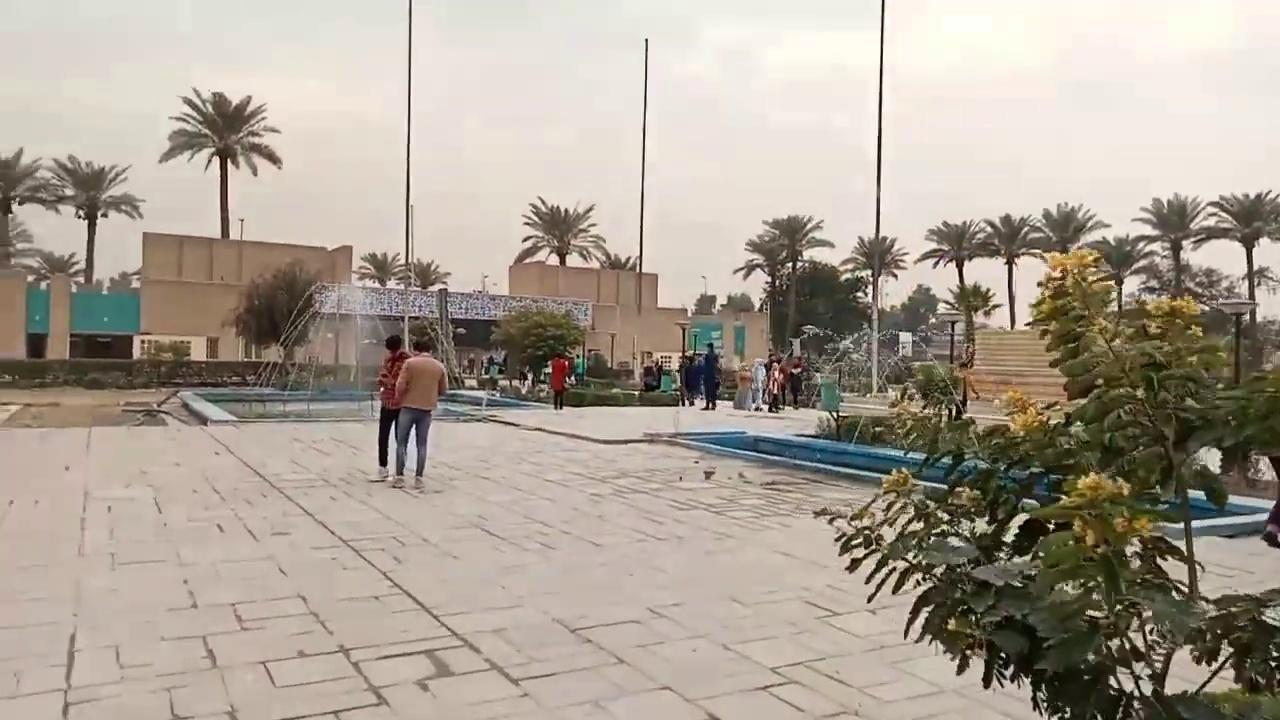fountain: (641, 418, 1274, 539), (642, 321, 1065, 501), (174, 279, 555, 425), (642, 419, 1064, 507)
person: (391, 335, 447, 488), (367, 334, 413, 482), (957, 343, 980, 409), (548, 351, 569, 411), (573, 353, 585, 386)
tree: (812, 243, 1279, 718), (157, 85, 283, 239), (24, 152, 145, 283), (1193, 188, 1279, 370), (913, 218, 991, 367), (838, 233, 909, 394), (759, 212, 834, 354), (221, 257, 321, 360), (1029, 200, 1110, 326), (1130, 191, 1211, 297), (976, 211, 1045, 329), (488, 306, 585, 387), (732, 234, 794, 356), (22, 248, 84, 359), (514, 194, 606, 267), (1078, 231, 1155, 314), (790, 260, 866, 340), (798, 321, 875, 394), (941, 279, 1003, 368), (912, 217, 988, 287), (395, 256, 451, 350), (351, 250, 406, 345), (0, 145, 43, 264), (417, 287, 466, 388), (1034, 200, 1110, 255), (351, 250, 406, 287), (899, 282, 939, 332), (27, 248, 83, 282), (397, 256, 451, 290), (106, 267, 141, 290), (599, 251, 639, 271)
